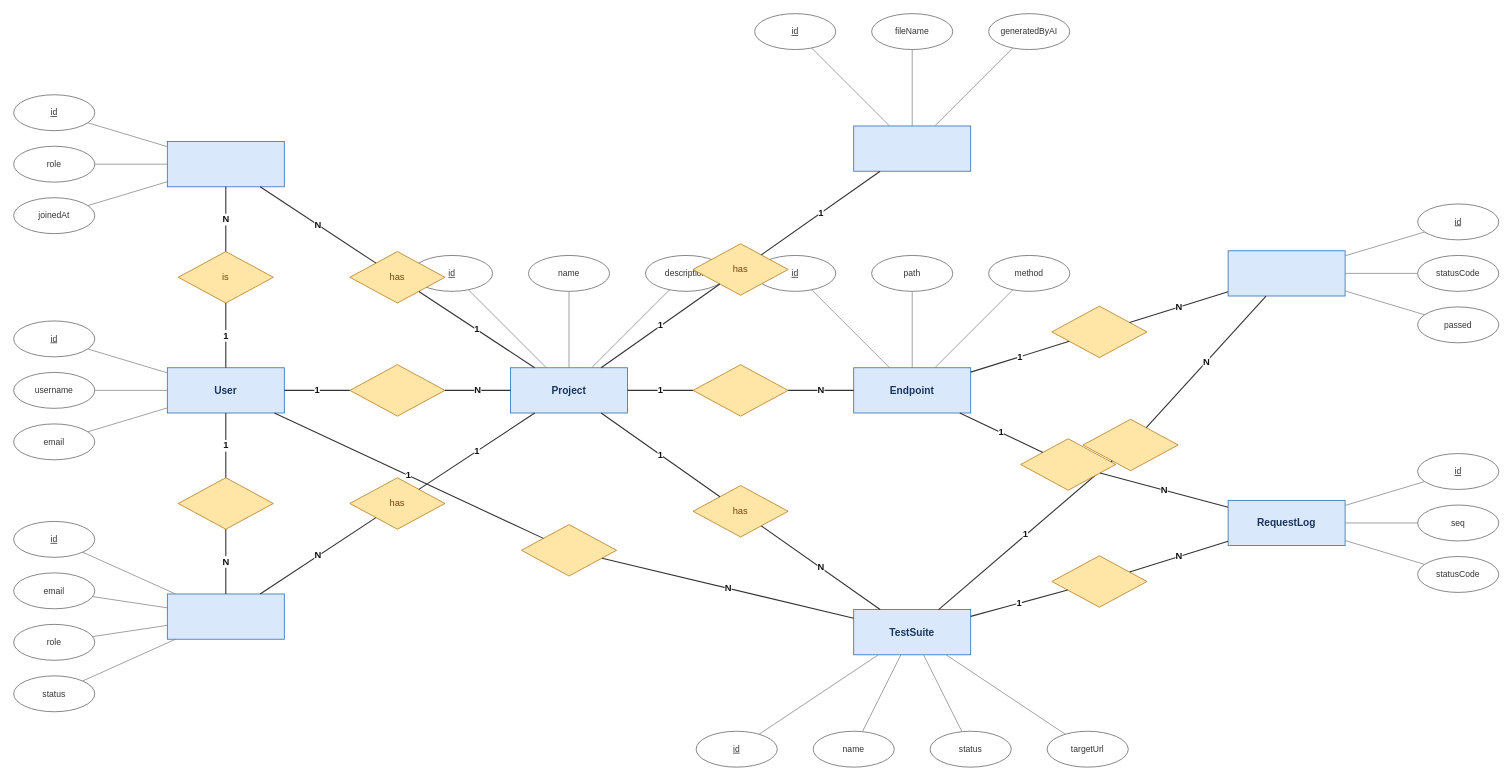
The diagram is 1512 pixels wide and 781 high, and some of its shapes have lost their labels. The centre of each missing label's shape, as x and y in pixels:
ApiSpecification: [912,148]
captures: [1099,581]
contains: [740,390]
maps: [1068,464]
owns: [397,390]
produces: [1130,444]
ProjectInvitation: [225,616]
ProjectMember: [225,164]
sends: [225,503]
TestCase: [1286,273]
tested by: [1099,331]
triggers: [569,550]
